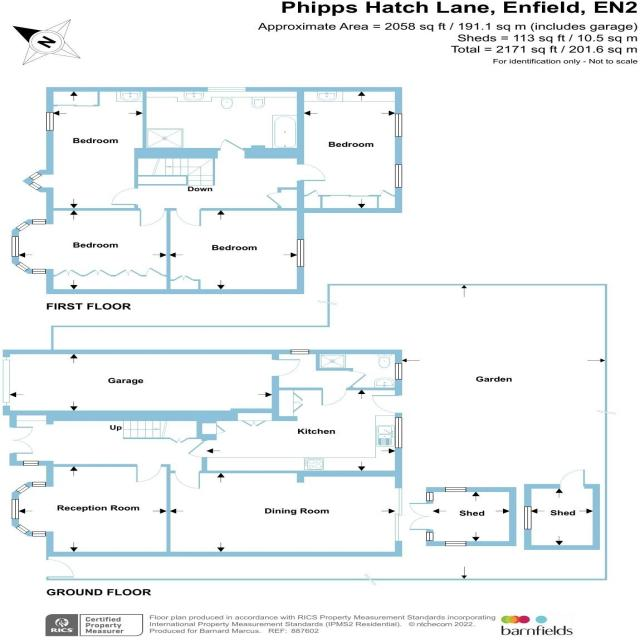DOOR: (370, 395, 403, 414), (296, 164, 327, 182), (271, 359, 302, 377), (110, 187, 139, 206), (139, 207, 166, 227), (175, 208, 203, 227), (320, 387, 348, 406), (46, 559, 74, 578), (136, 463, 163, 482), (174, 470, 201, 489), (186, 440, 208, 458), (219, 138, 244, 151), (348, 371, 368, 387)
ROOM: (166, 464, 403, 557), (187, 387, 403, 477), (22, 87, 147, 211), (11, 464, 171, 557), (11, 208, 171, 295), (296, 87, 403, 213), (165, 208, 305, 294)
WINDOW: (394, 417, 403, 448), (296, 239, 305, 267), (394, 113, 403, 137), (394, 164, 403, 188), (207, 87, 246, 92), (11, 237, 19, 257), (11, 499, 19, 519), (394, 363, 403, 380), (46, 112, 54, 131), (28, 181, 43, 191), (15, 262, 30, 272), (15, 221, 30, 231), (15, 484, 30, 494), (15, 524, 30, 534), (28, 171, 42, 181), (290, 349, 310, 355), (32, 531, 46, 537), (23, 461, 39, 466), (32, 219, 46, 224), (32, 269, 46, 274), (32, 482, 46, 487)
